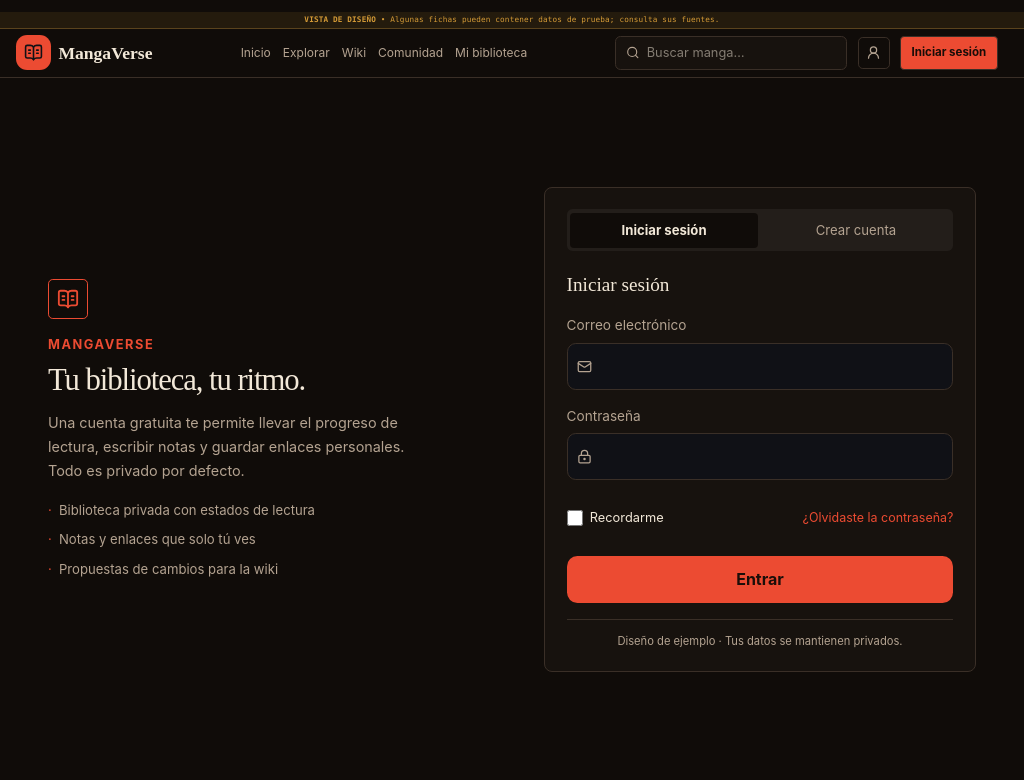
it: AccountPage › requests a password reset email
Click the button "¿Olvidaste la contraseña?".
click(878, 518)  # box [803,496,953,540]
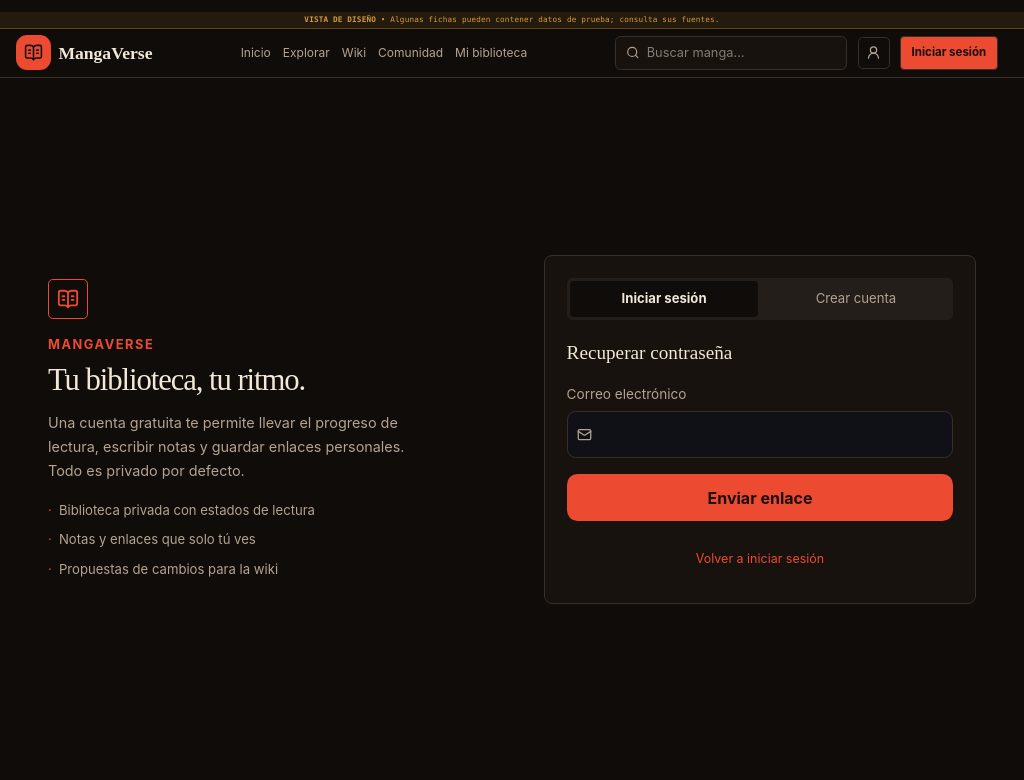
Type "reader@example.com" into the field labelled "Correo electrónico".
click(760, 435); type("reader@example.com")  # box [567,411,953,458]
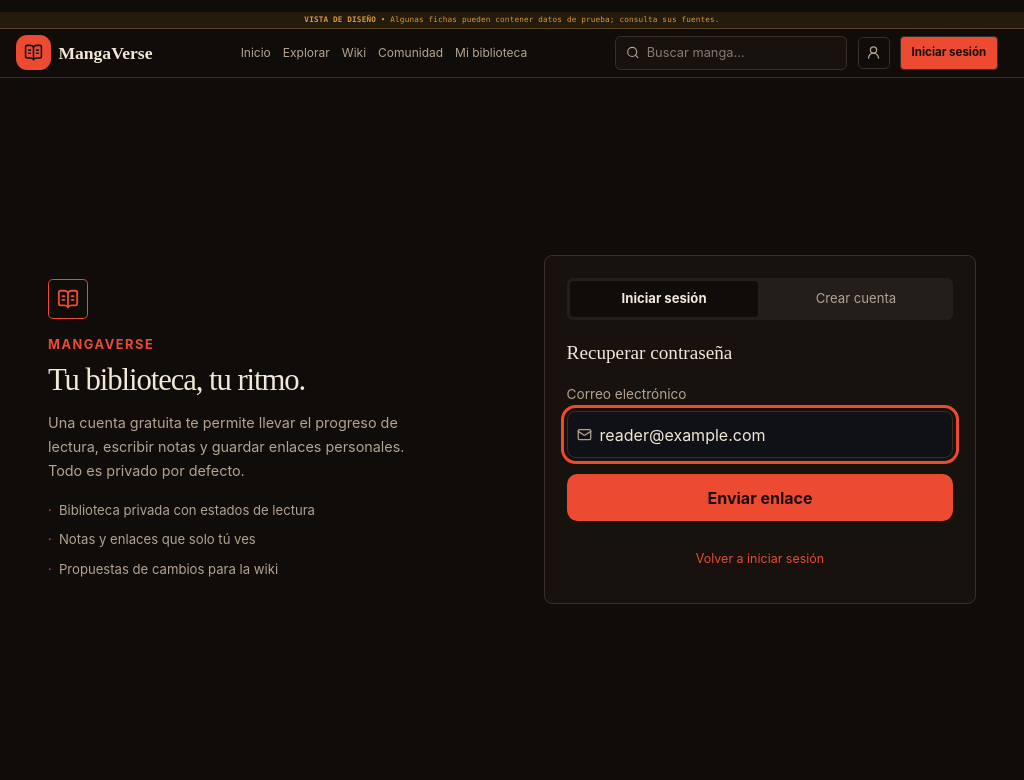
Click the button "Enviar enlace".
click(760, 498)  # box [567,474,953,521]
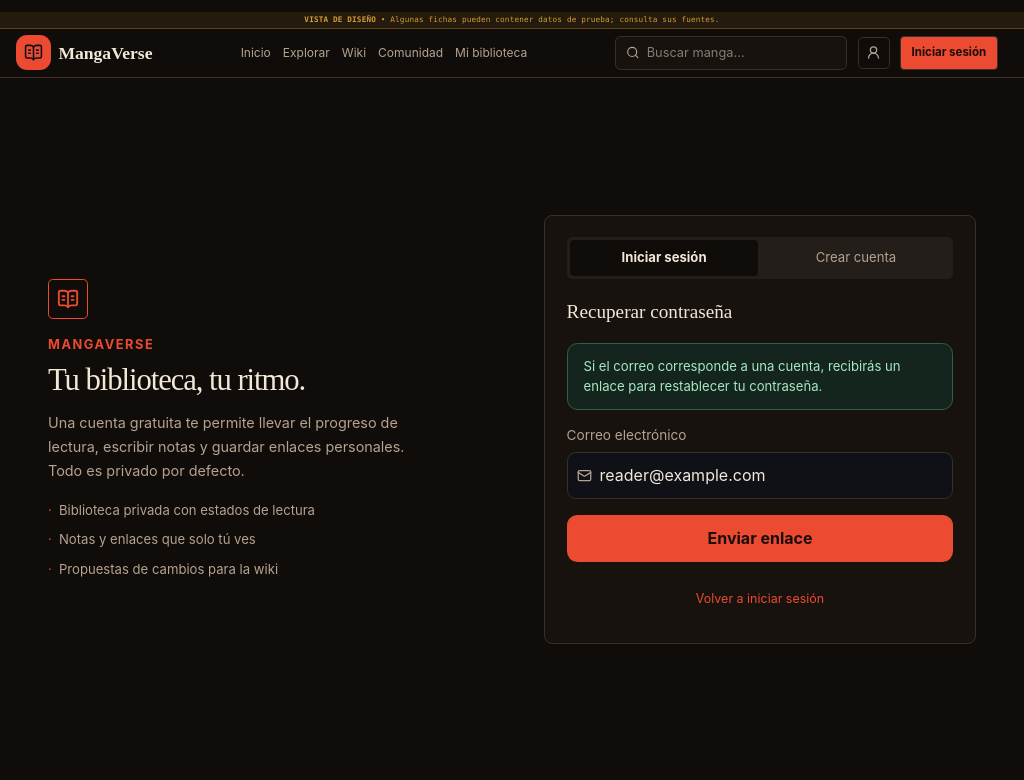
Expected: the message shows "recibirás un enlace", [584,358,901,394]
